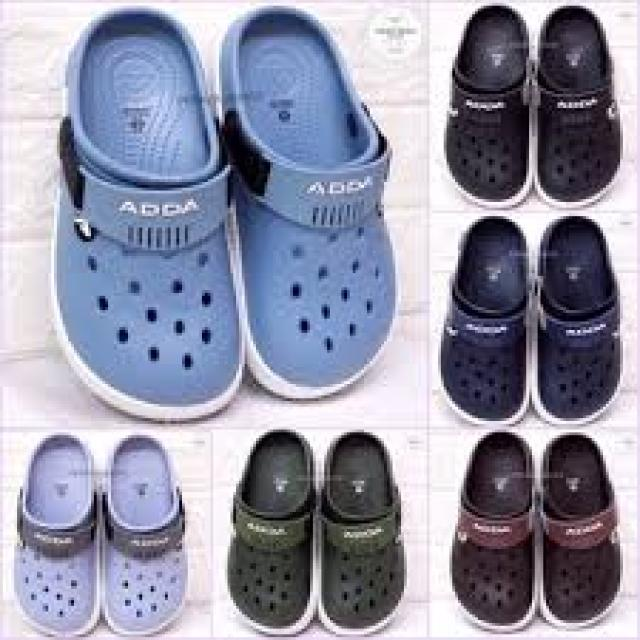shoe: (48, 8, 393, 425), (6, 421, 198, 640), (222, 421, 407, 640), (435, 3, 630, 210), (440, 215, 625, 431), (441, 433, 630, 640)
